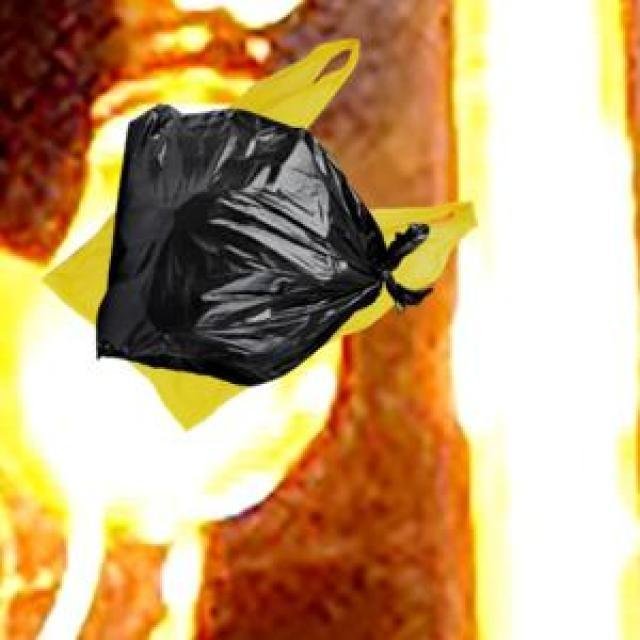miscellaneous trash: (94, 100, 427, 382)
